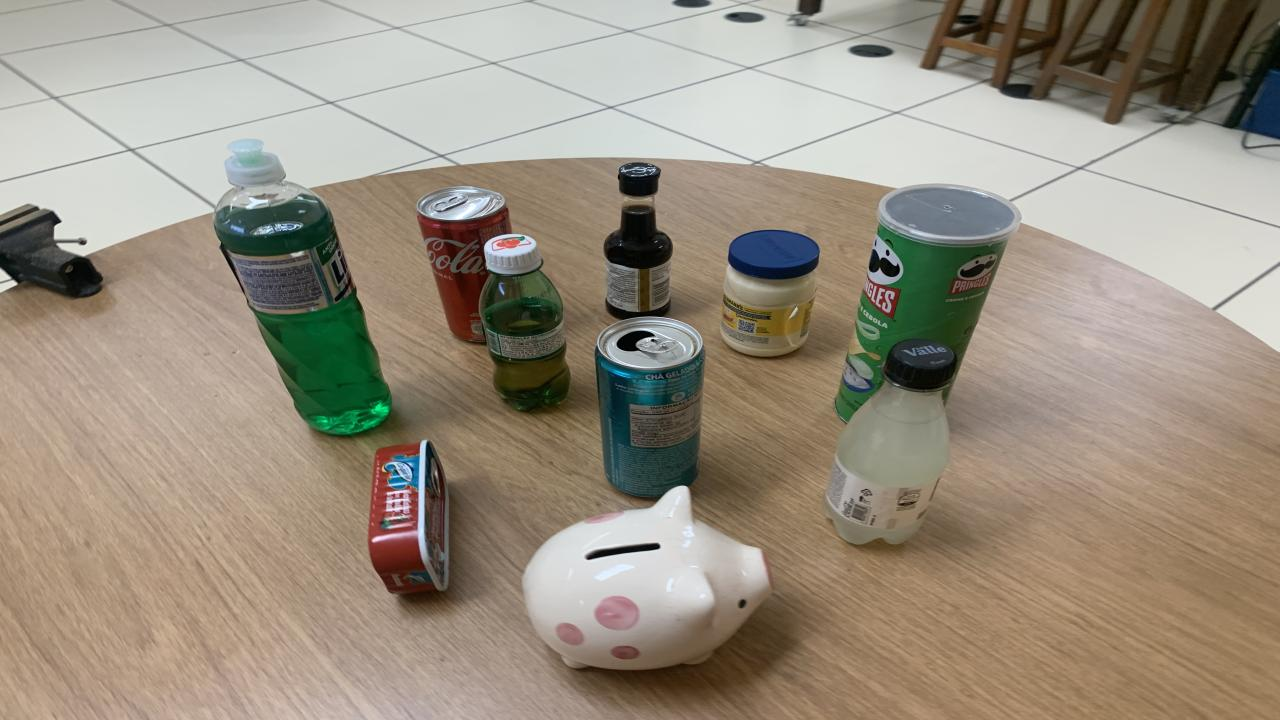Coke-Drinks: (415, 186, 510, 341)
Detergent-Cleanup_Items: (212, 139, 390, 435)
English_Sauce-Pantry_Items: (605, 161, 672, 319)
Guarana-Drinks: (478, 234, 570, 411)
Mayonnaise-Pantry_Items: (722, 229, 820, 356)
Pig_Safe-Miscellaneous: (522, 486, 770, 669)
Pringles-Snacks: (835, 184, 1020, 422)
Soda-Drinks: (822, 338, 958, 544)
Tea-Drinks: (595, 317, 705, 497)
Tuna_Can-Pantry_Items: (368, 441, 450, 594)
